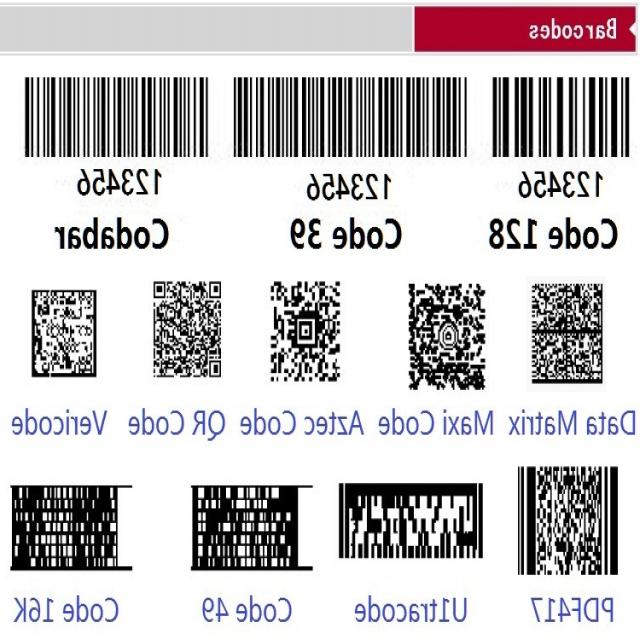DataMatrix: (526, 277, 606, 393)
